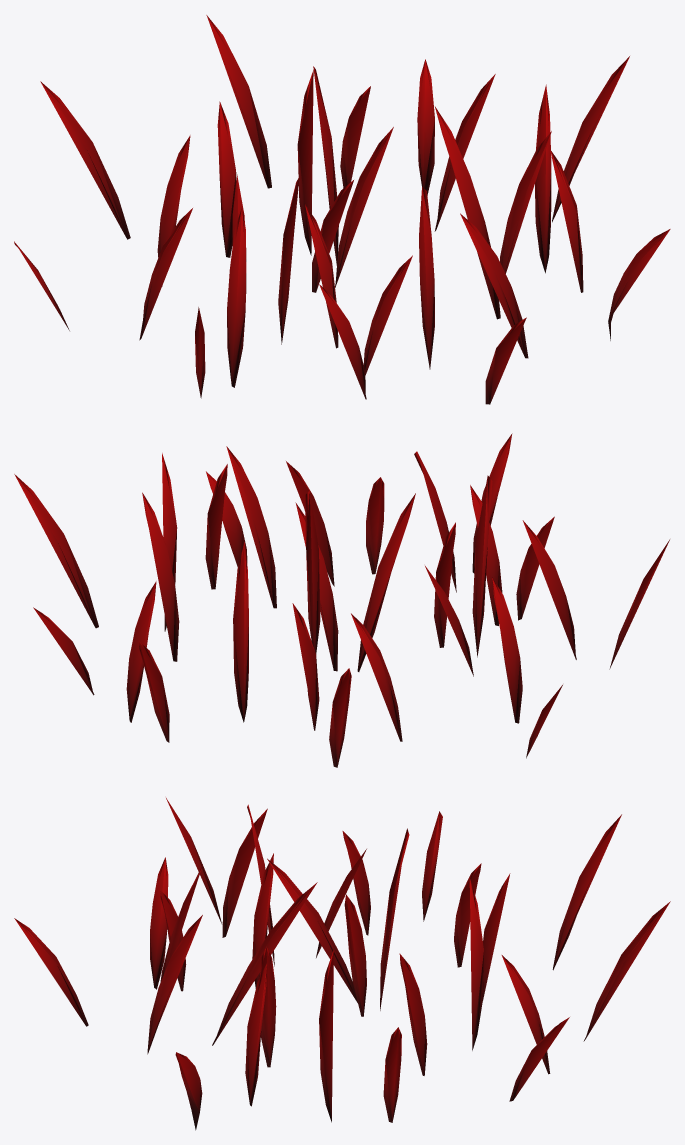
The model's file is grassLOD1_0.2.fbx.
The picture shows the model from 3 angles, top to bottom: view 1: azimuth 30°, elevation 25°; view 2: azimuth 150°, elevation 25°; view 3: azimuth 270°, elevation 25°; orthographic projection. The views are drawn at different scales.
Visible parts, largest first — view 1: Grass.LOD1; view 2: Grass.LOD1; view 3: Grass.LOD1.
Boxes of the visible parts, <box> form: Grass.LOD1: <box>14,15,670,404</box>; Grass.LOD1: <box>14,433,669,767</box>; Grass.LOD1: <box>14,798,670,1130</box>.
Bounding box in the file's own units: 0.7018 × 0.2681 × 0.7252.
